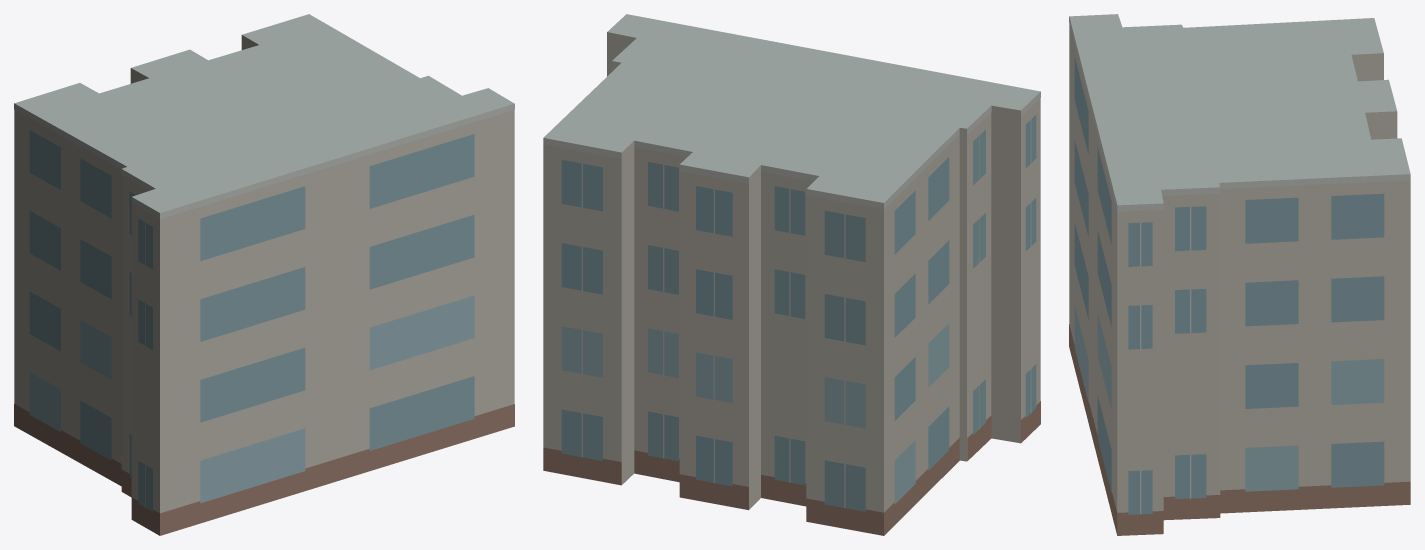
File: survey-upis-32755482.glb
The picture shows the model from 3 angles, left to right: view 1: azimuth 30°, elevation 25°; view 2: azimuth 150°, elevation 25°; view 3: azimuth 270°, elevation 25°; orthographic projection. The views are drawn at different scales.
Parts seen in each view (by area): view 1: survey-upis-32755482.tmp; view 2: survey-upis-32755482.tmp; view 3: survey-upis-32755482.tmp.
Part boxes in pixels (left/top/right/bottom): survey-upis-32755482.tmp: left=14, top=14, right=514, bottom=535; survey-upis-32755482.tmp: left=543, top=14, right=1040, bottom=535; survey-upis-32755482.tmp: left=1069, top=14, right=1410, bottom=535.
Bounding box in the file's own units: 15.77 × 12.7 × 11.9.
